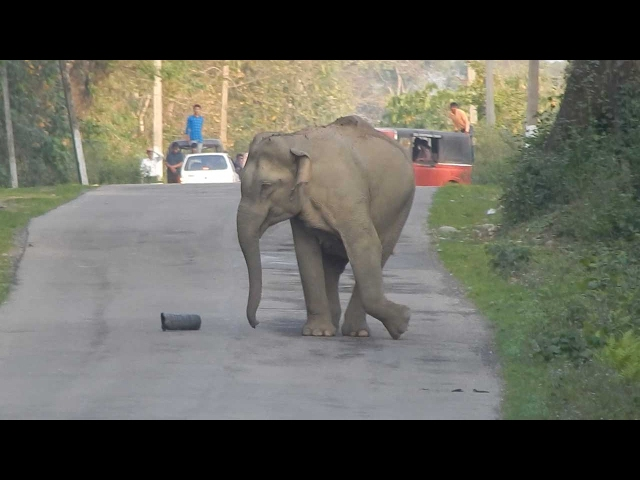elephant: (229, 108, 434, 363)
